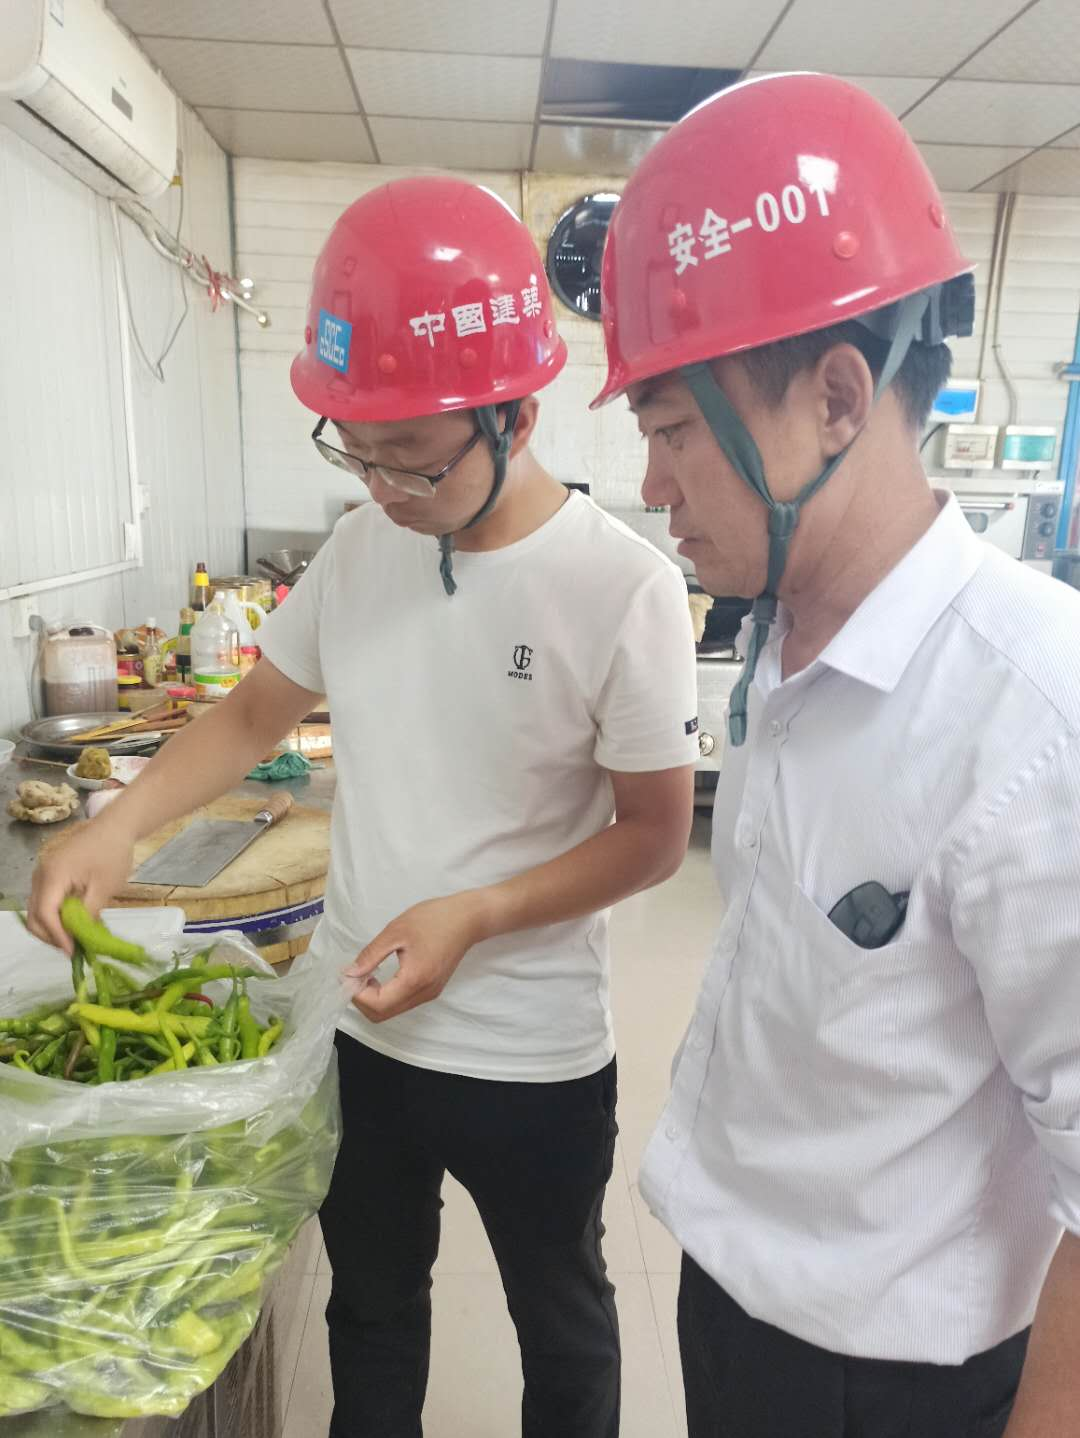safetyhat: (575, 58, 1080, 1359), (168, 155, 621, 1350)
